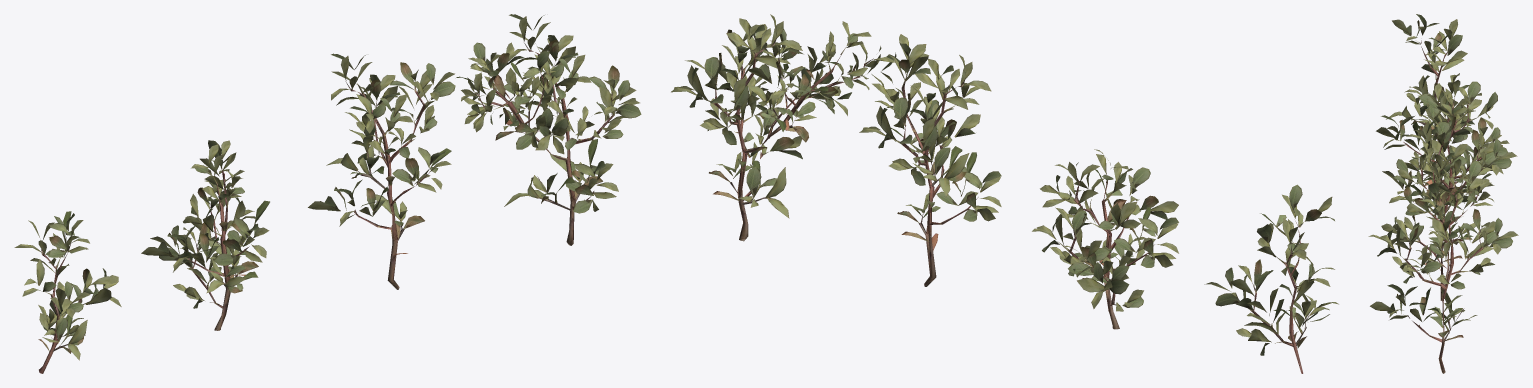
Rendered from shrub_04.glb.
3 renders of one model, left to right at view 1: azimuth 30°, elevation 25°; view 2: azimuth 150°, elevation 25°; view 3: azimuth 270°, elevation 25°, orthographic. The views are drawn at different scales.
Parts seen in each view (by area): view 1: shrub_04; view 2: shrub_04; view 3: shrub_04.
Part boxes in pixels (x1,y1,x2,y2): shrub_04: (14, 14, 641, 373); shrub_04: (671, 14, 1338, 373); shrub_04: (1368, 14, 1518, 373).
Size of the model in its own units: 0.5837 by 0.2192 by 0.1461.
Materials: 1 (1 with a texture image).
